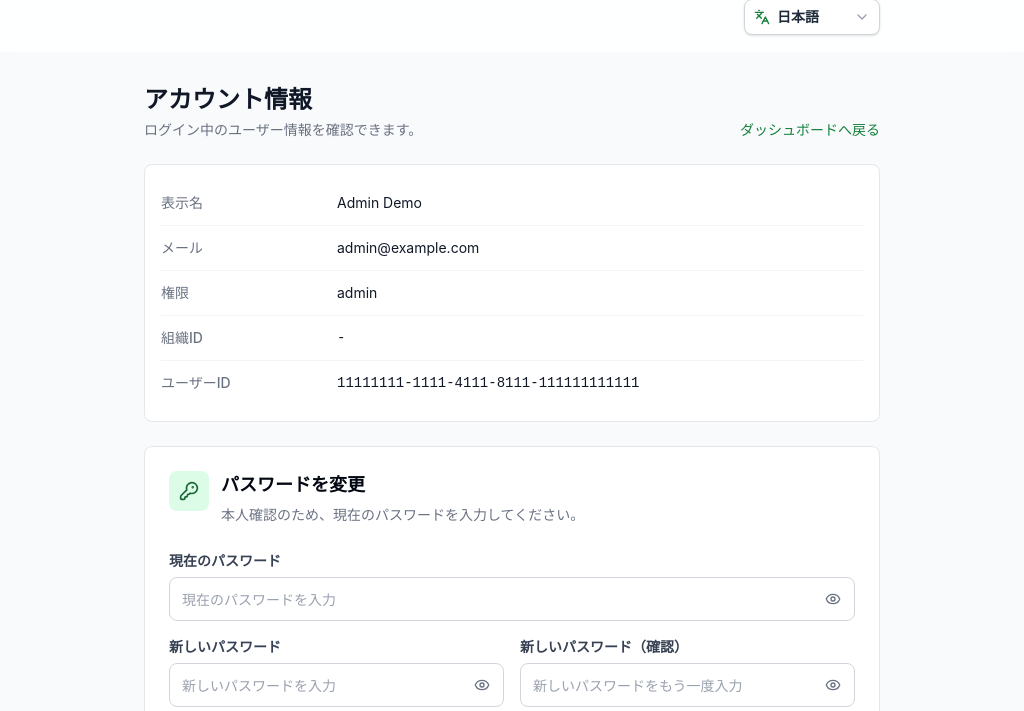
Test: AccountPage password change › shows a translated stable error code for an incorrect current password
Type "Wrong12345" into the password field labelled "現在のパスワード" at [512, 599], box left=169, top=577, right=855, bottom=621
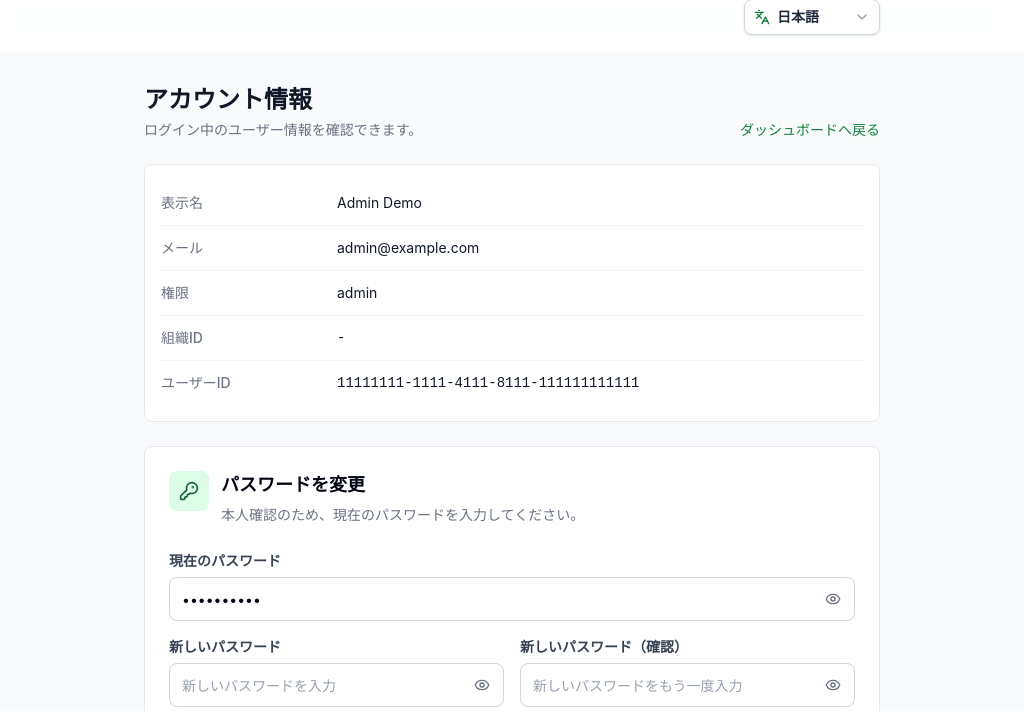
Type "Replacement5678" into the password field labelled "新しいパスワード" at [336, 685], box left=169, top=663, right=504, bottom=707
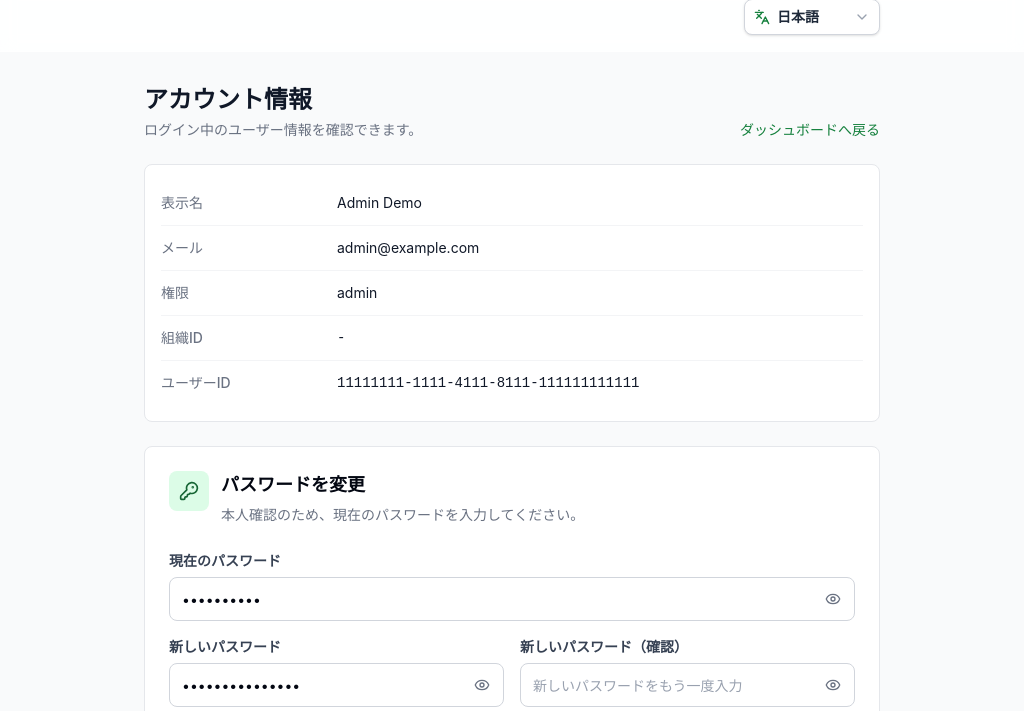
Type "Replacement5678" into the password field labelled "新しいパスワード（確認）" at [688, 685], box left=520, top=663, right=855, bottom=707
(page scrolled)
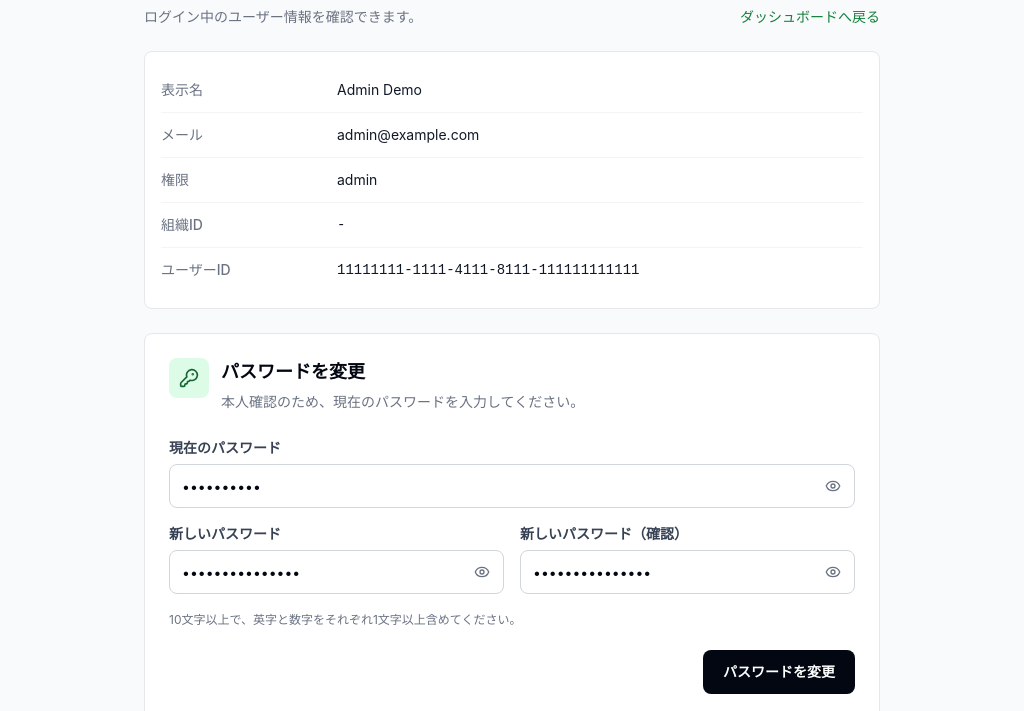
Click the button "パスワードを変更" at [779, 672], box left=703, top=650, right=855, bottom=694
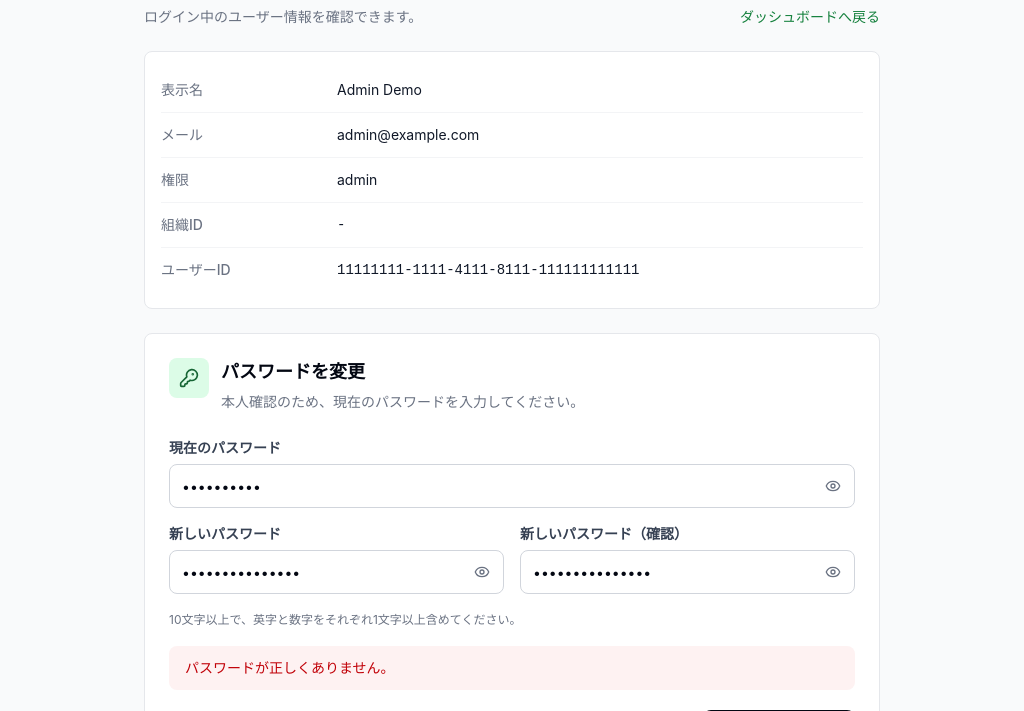
Result: the message reads "パスワードが正しくありません。" at left=185, top=659, right=395, bottom=676
